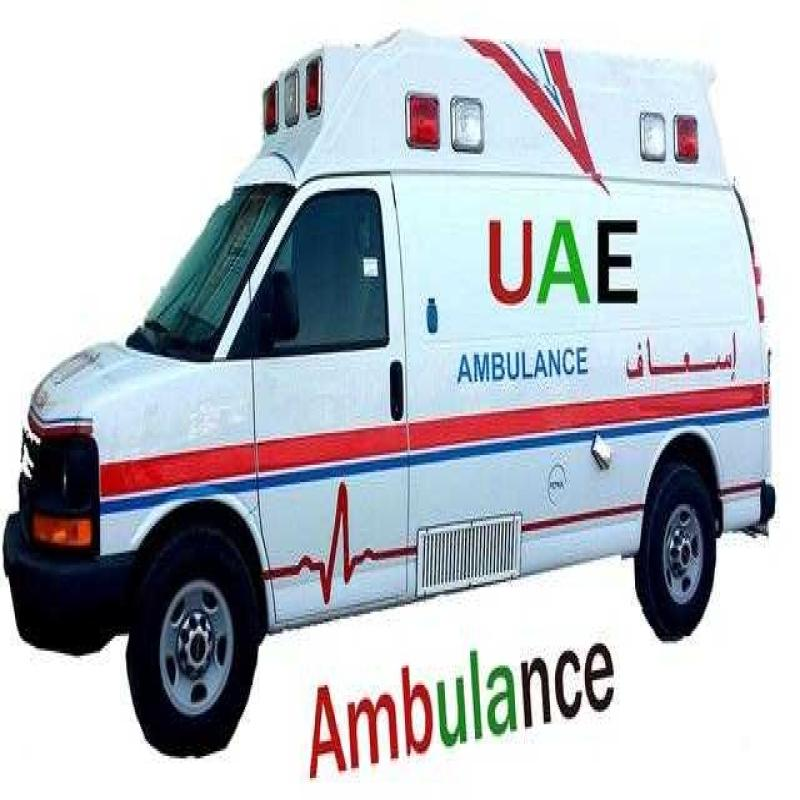AmbulanceSiren: (257, 60, 334, 143)
